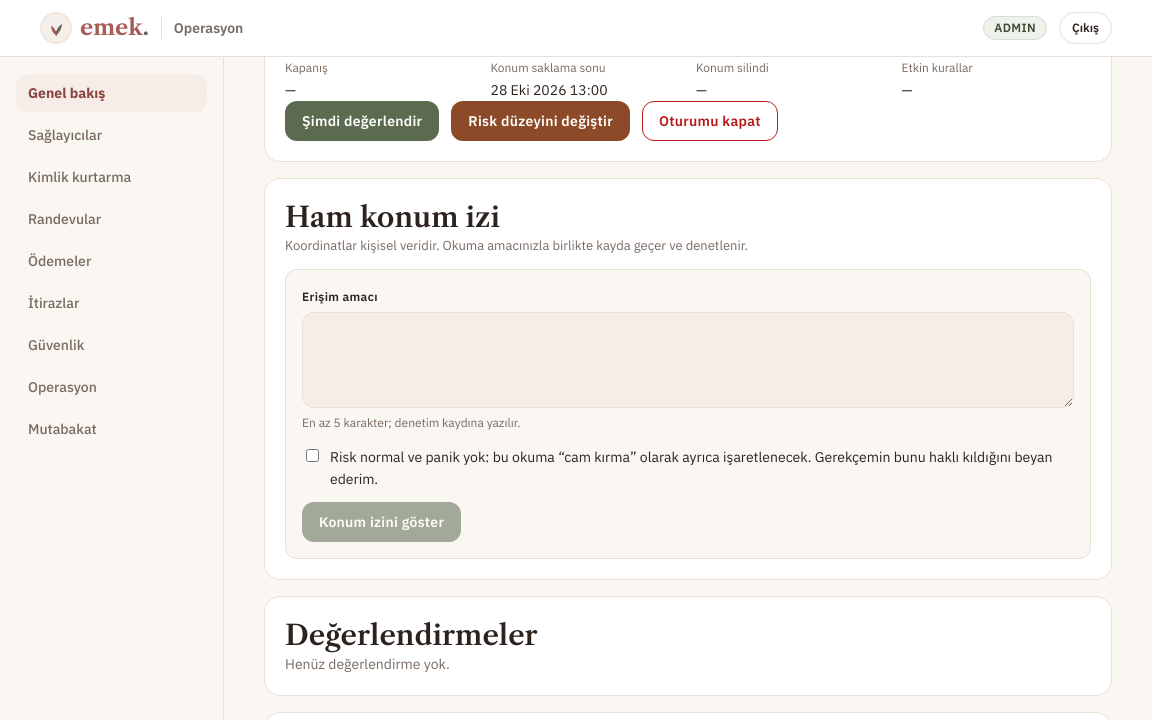
Test: güvenlik oturumu › ham konum: gerekçe + riskli olmayan oturumda cam kırma beyanı ister; sonuç gizlenebilir
This screenshot has width=1152, height=720.
(page scrolled)
Type "Müşteri şikâyeti incelemesi" into the text box labelled "Erişim amacı" at (688, 360), box [302,312,1074,408]
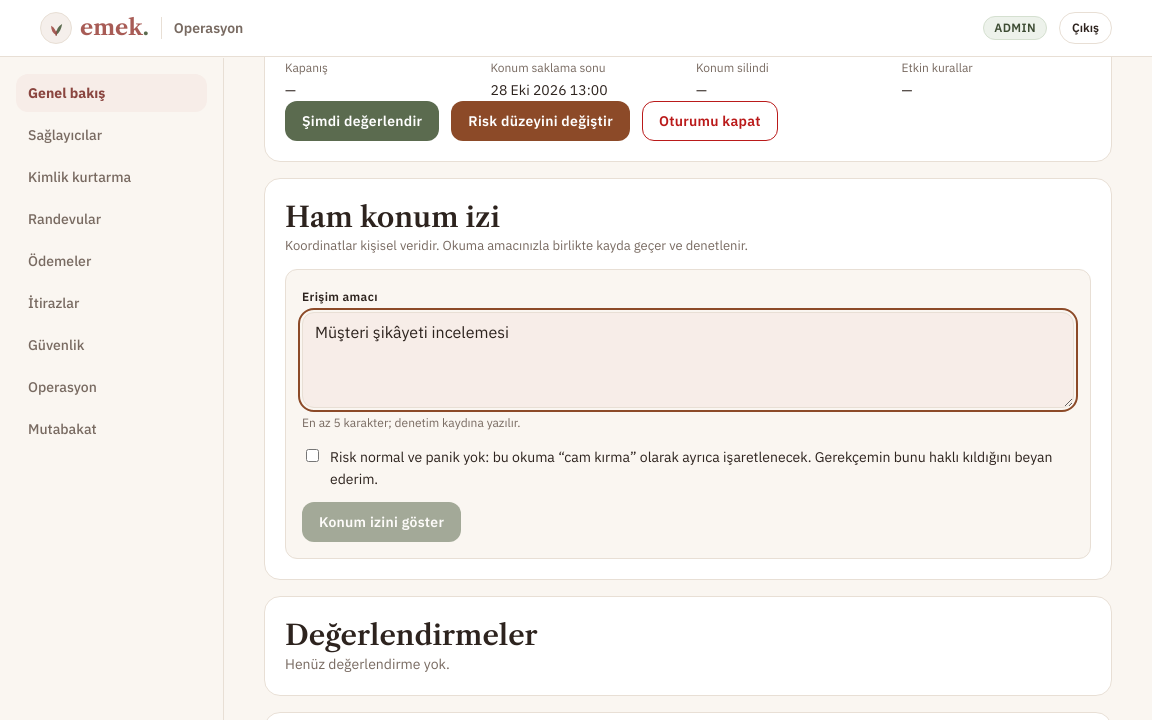
Expected: the button "Konum izini göster" is disabled, [302,502,461,542]
Click the checkbox at (312, 456), box [306,449,319,462]
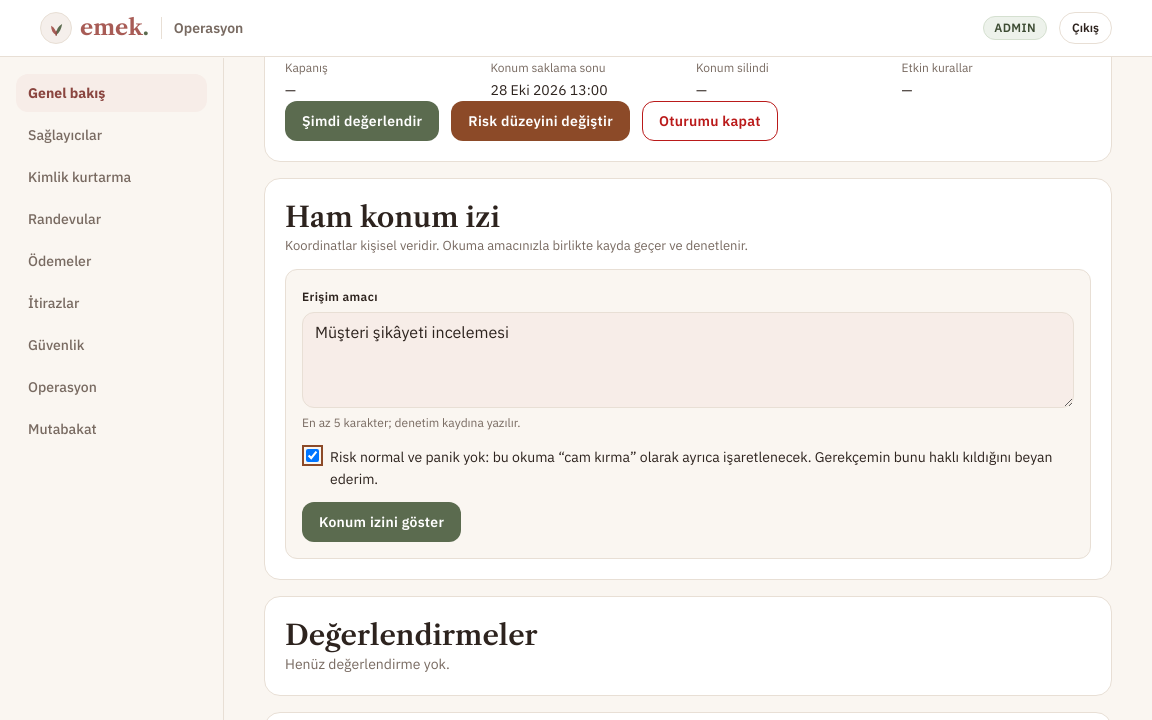
Click the button "Konum izini göster" at (382, 522), box [302,502,461,542]
(page scrolled)
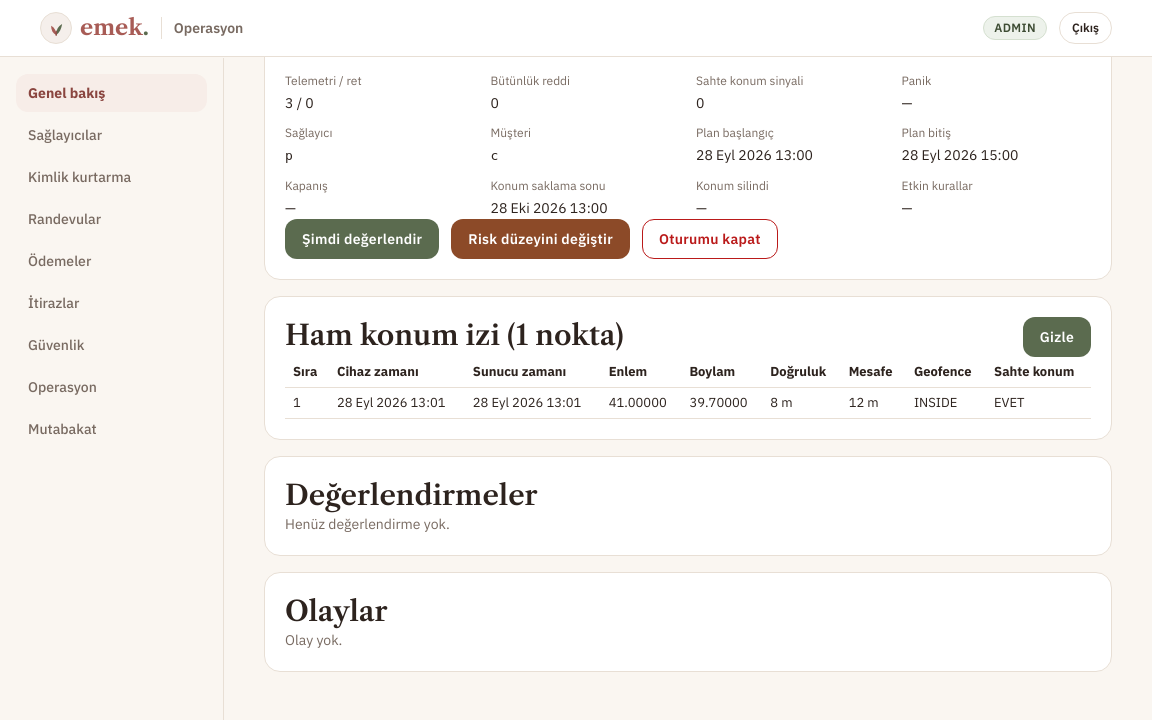
Now the heading "Ham konum izi (1 nokta)" is shown, box [285,317,624,353]
Now the text "EVET" is shown, box [986,388,1091,418]
Click the button "Gizle" at (1057, 337), box [1023,317,1091,357]
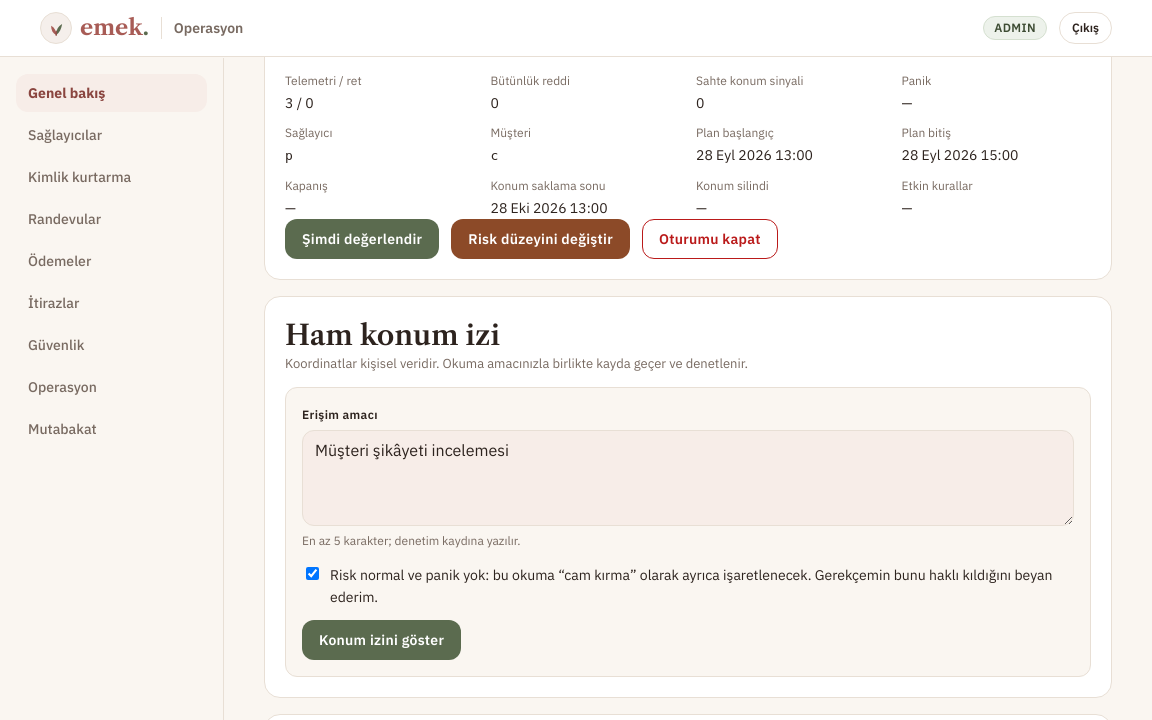
Now the text "41.00000" is gone
